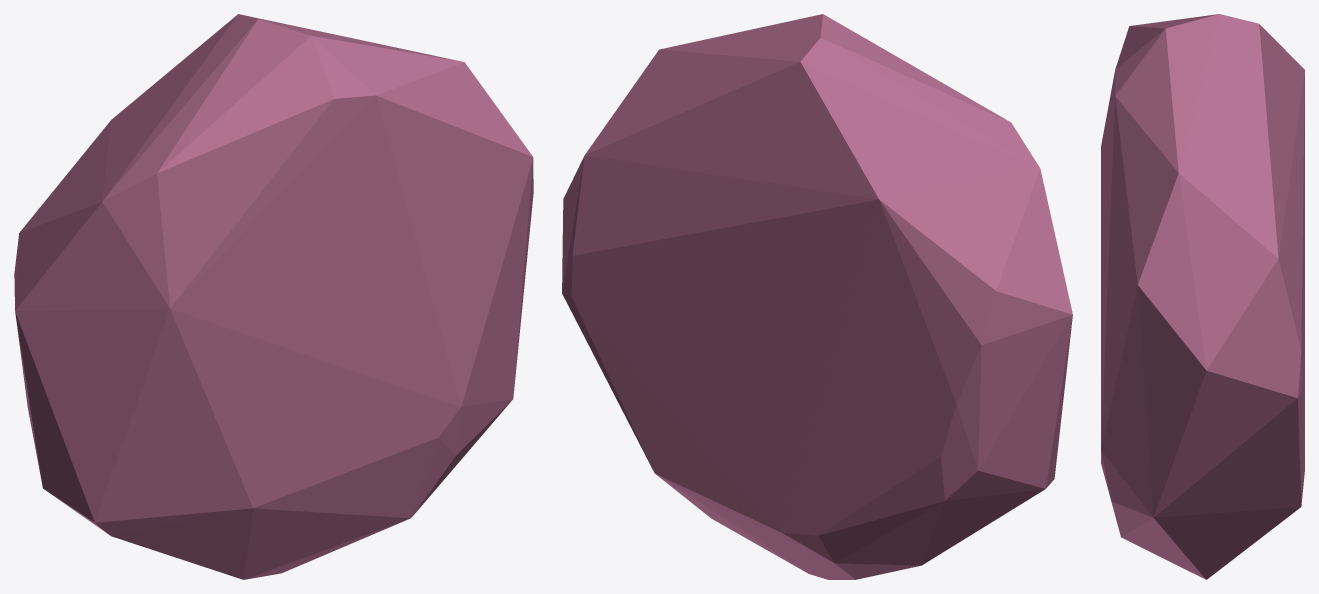
File: food_prepared_donut_p01.glb
3 renders of one model, left to right at view 1: azimuth 30°, elevation 25°; view 2: azimuth 150°, elevation 25°; view 3: azimuth 270°, elevation 25°, orthographic. The views are drawn at different scales.
Parts seen in each view (by area): view 1: geometry_0; view 2: geometry_0; view 3: geometry_0.
Boxes of the visible parts, x1,y1,x2,y2 form: geometry_0: (14, 14, 533, 579); geometry_0: (562, 14, 1072, 579); geometry_0: (1101, 14, 1304, 579).
Size of the model in its own units: 0.464 by 0.4741 by 0.1621.
